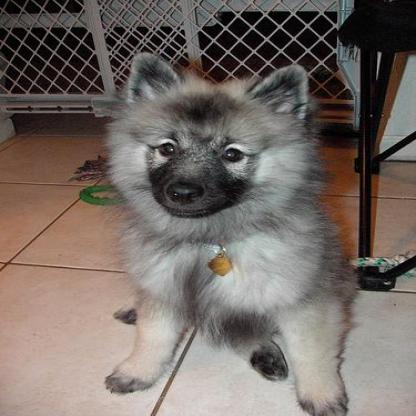keeshond: (96, 47, 360, 414)
